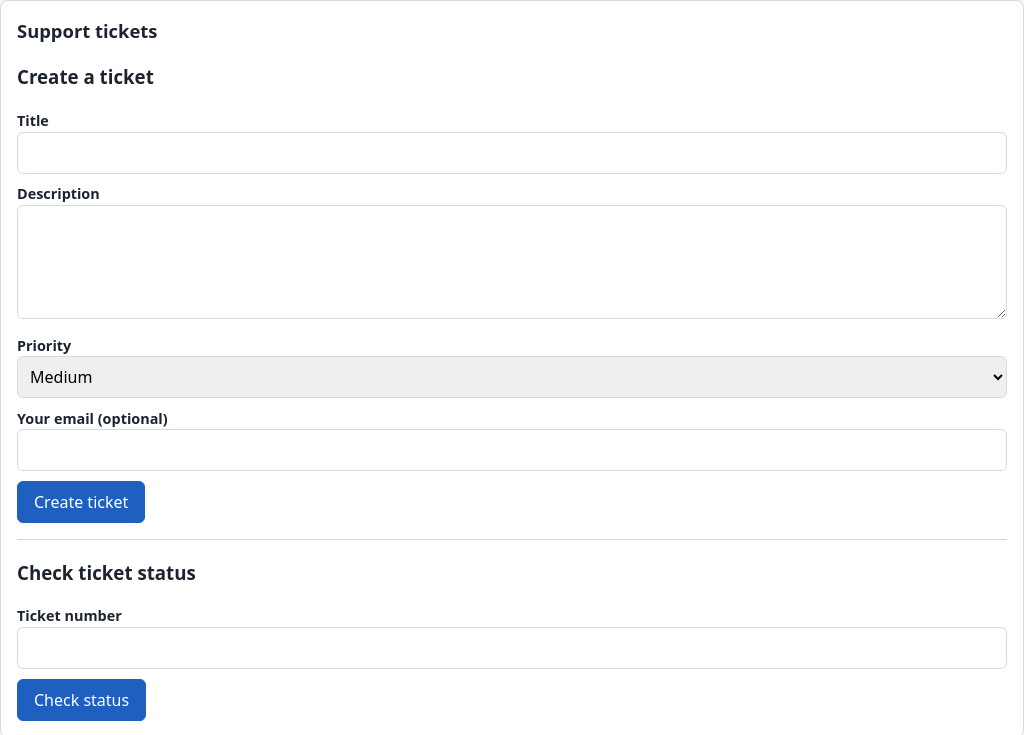
Test case: TicketPanel › reports an unknown ticket number
This screenshot has width=1024, height=735.
Type "99" into the number field labelled "Ticket number" at (512, 648), box [17,627,1007,669]
Then press Enter
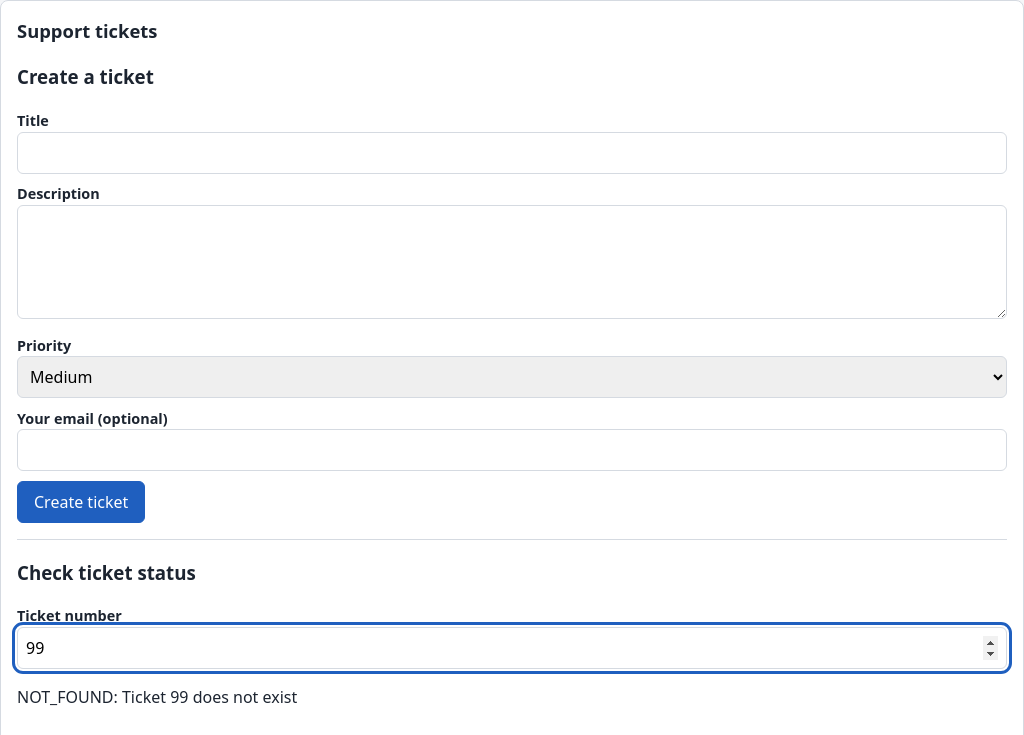
Check: the message shows "Ticket 99 does not exist", box [17,686,297,708]
